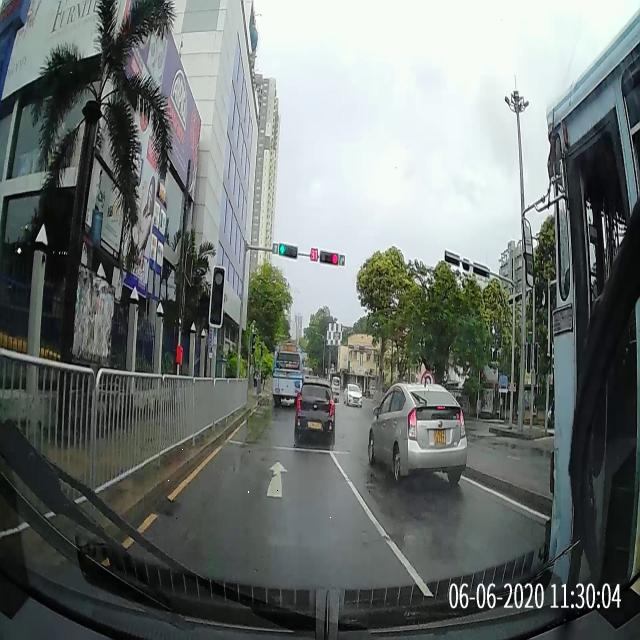forward: (144, 445, 388, 537)
